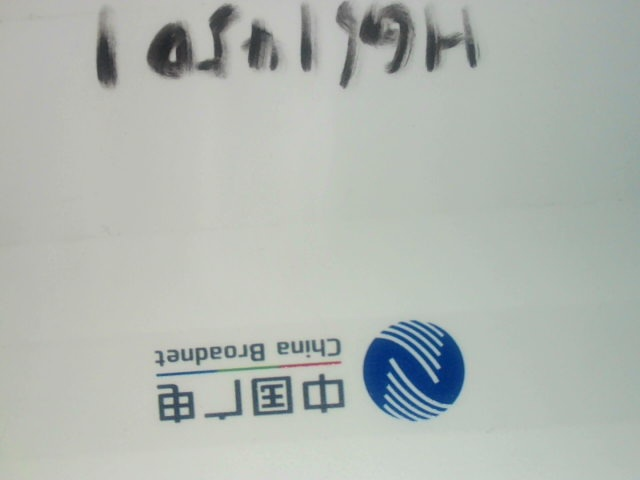AW_ChinaBroadNet: (110, 285, 481, 425)
